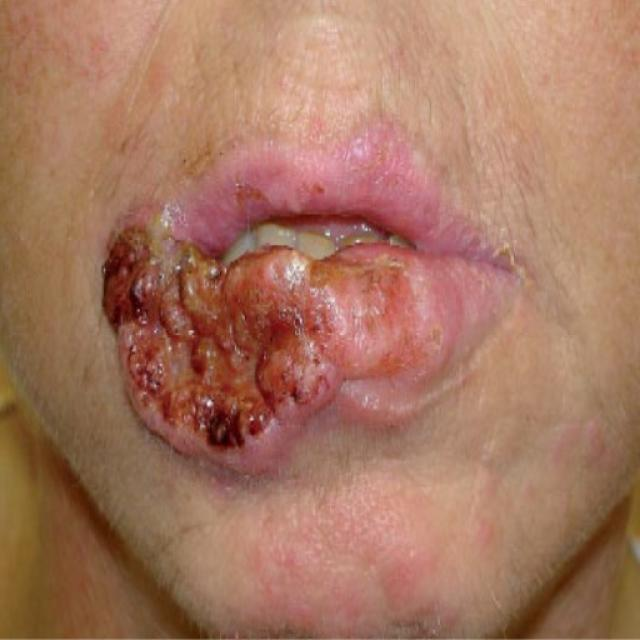cancer-detection: (100, 220, 415, 453)
processing_area: (99, 210, 421, 457)
